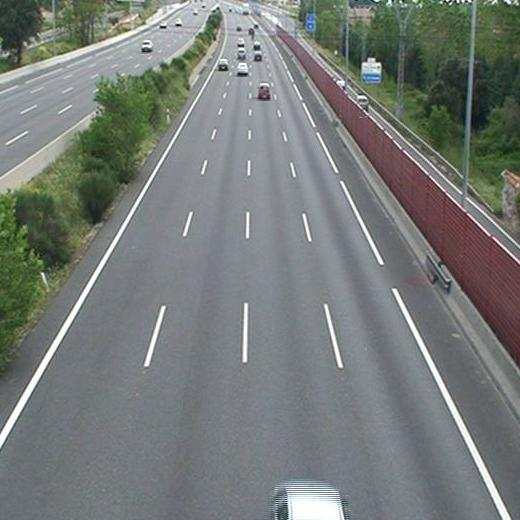car: (258, 83, 271, 98), (237, 62, 249, 74), (218, 58, 228, 69), (237, 49, 247, 58), (253, 50, 262, 59)
